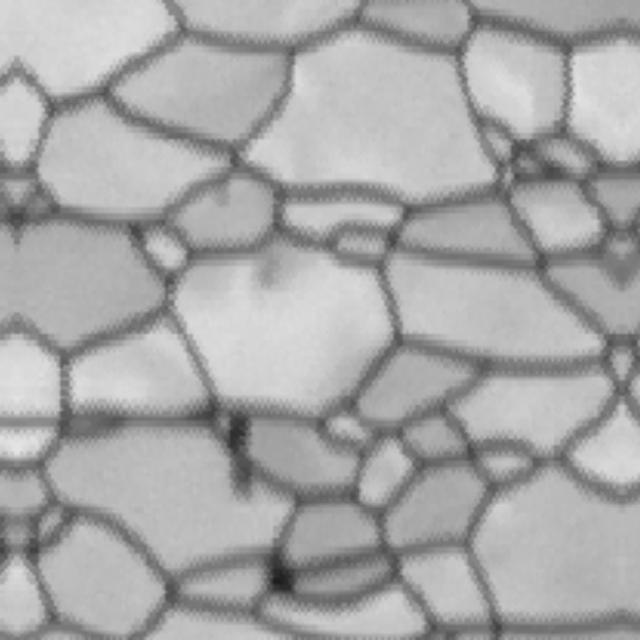good_void: (224, 403, 261, 506), (257, 542, 300, 600), (247, 241, 295, 292), (208, 178, 235, 211)
